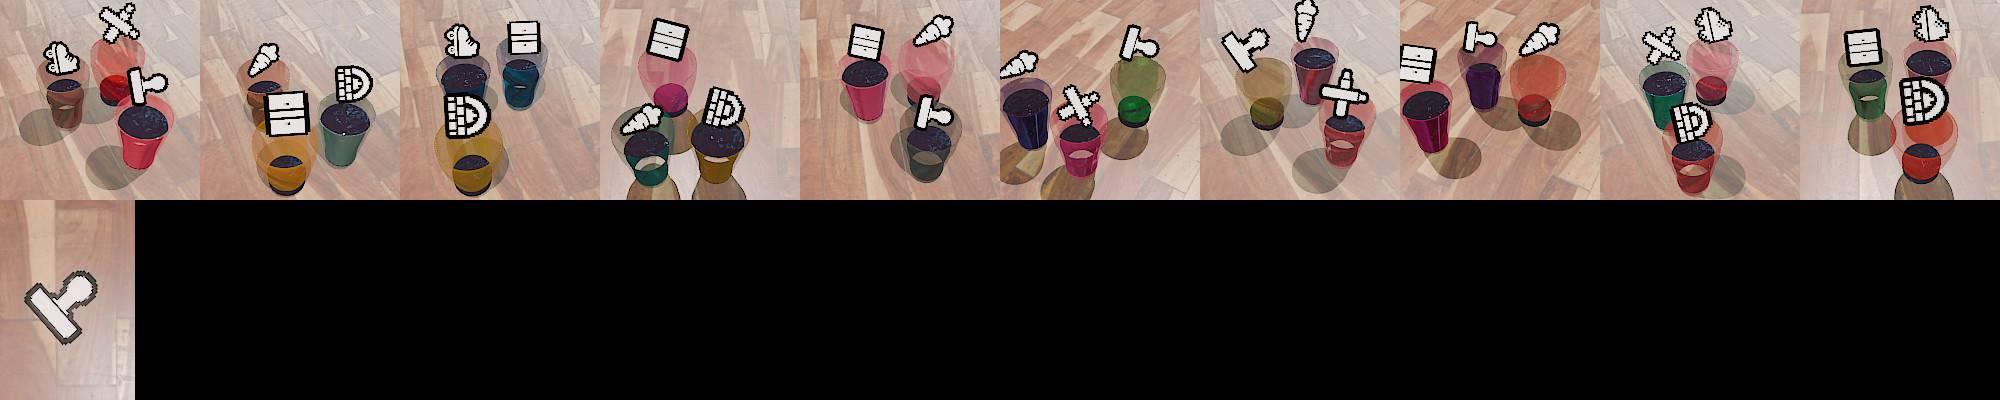icon: (22, 268, 102, 345), (1318, 65, 1370, 120), (1898, 76, 1948, 125), (264, 89, 310, 138), (444, 92, 489, 139), (1219, 29, 1265, 73), (647, 17, 690, 62), (702, 85, 746, 129), (126, 66, 168, 110), (1057, 84, 1102, 125), (98, 3, 140, 43), (1518, 20, 1562, 59), (1672, 102, 1713, 143), (1399, 43, 1437, 85), (443, 22, 482, 61), (1119, 23, 1159, 61), (912, 93, 954, 130), (1642, 27, 1680, 66), (1844, 28, 1883, 68), (334, 65, 374, 103), (848, 22, 885, 62), (911, 13, 954, 47), (619, 102, 663, 135), (1912, 5, 1952, 42), (1694, 6, 1733, 43), (506, 20, 542, 59), (42, 41, 80, 76), (999, 47, 1040, 80), (1462, 19, 1499, 55), (247, 42, 282, 79), (1293, 0, 1319, 43)
